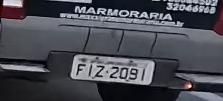Placa_mercosul_carro: (70, 55, 155, 85)
